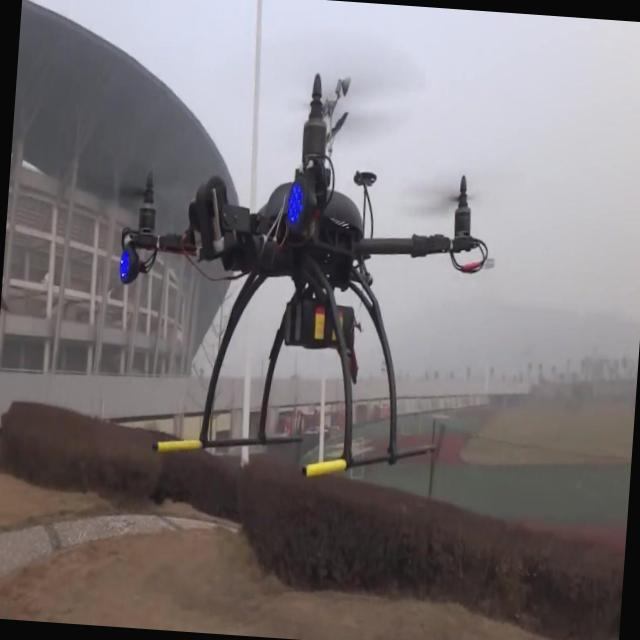drone: (94, 54, 500, 490)
